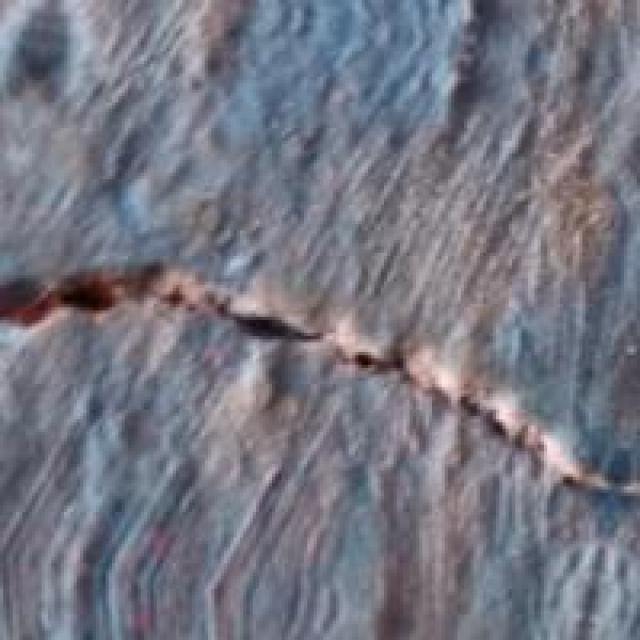Crack: (0, 211, 634, 579)
